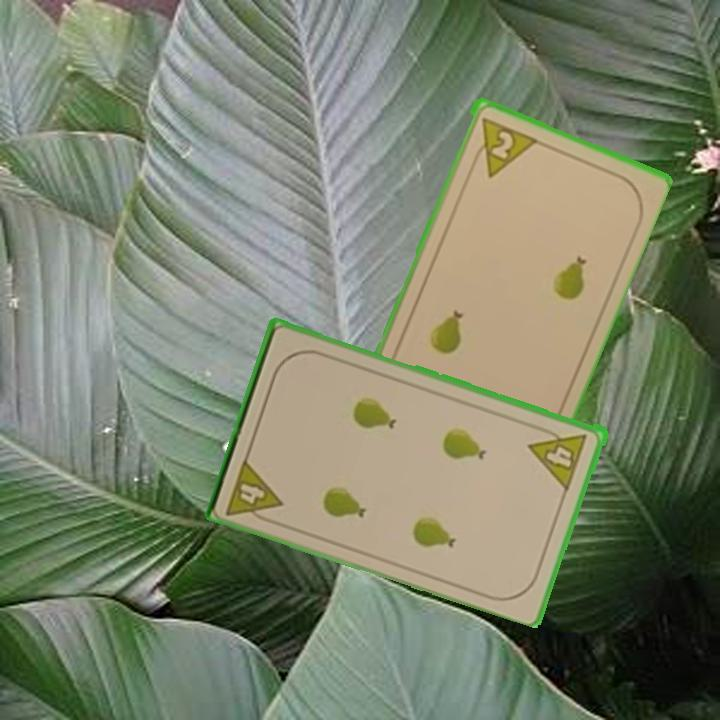2p: (468, 113, 538, 180)
4p: (222, 455, 287, 528), (526, 421, 590, 491)
